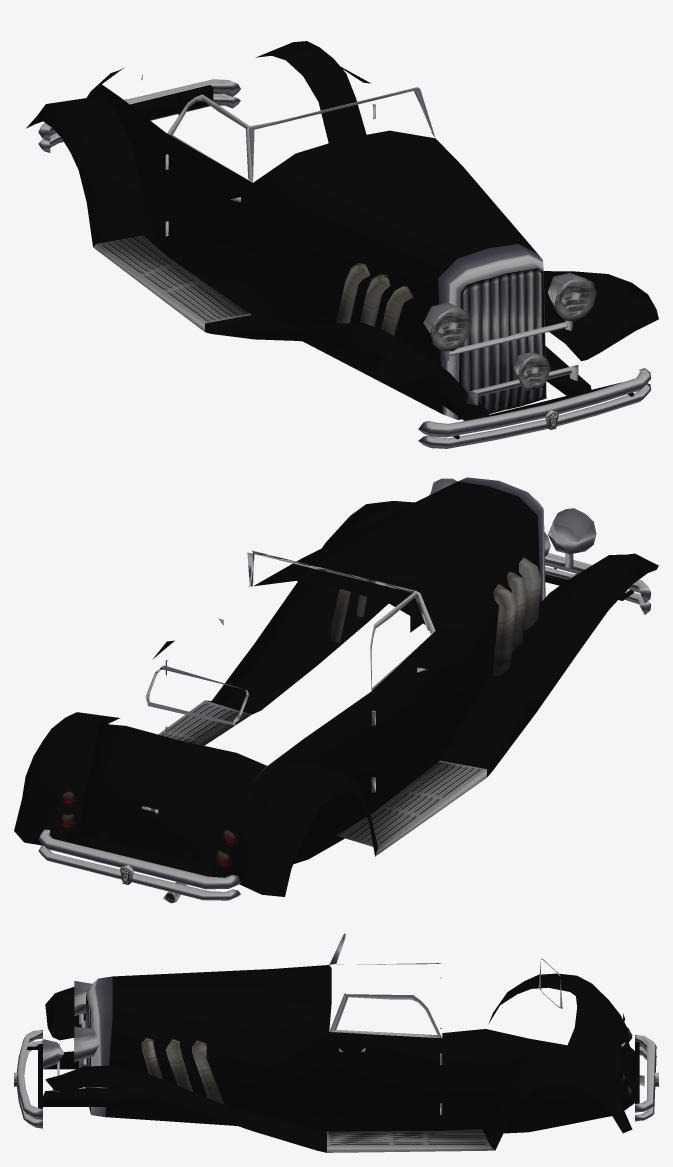
Rendered from car-COMP_Car26.glb.
The picture shows the model from 3 angles, top to bottom: view 1: azimuth 30°, elevation 25°; view 2: azimuth 150°, elevation 25°; view 3: azimuth 270°, elevation 25°; orthographic projection. The views are drawn at different scales.
Parts seen in each view (by area): view 1: COMP_Car26; view 2: COMP_Car26; view 3: COMP_Car26.
Part boxes in pixels (bbox=[...]): COMP_Car26: bbox=[26, 41, 658, 448]; COMP_Car26: bbox=[14, 477, 658, 903]; COMP_Car26: bbox=[14, 933, 658, 1152].
Bounding box in the file's own units: 1.87 × 1.17 × 4.91.
5 materials, 5 textured.
